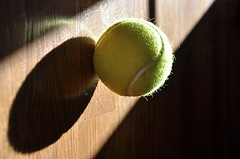tennis ball: (91, 17, 174, 96)
